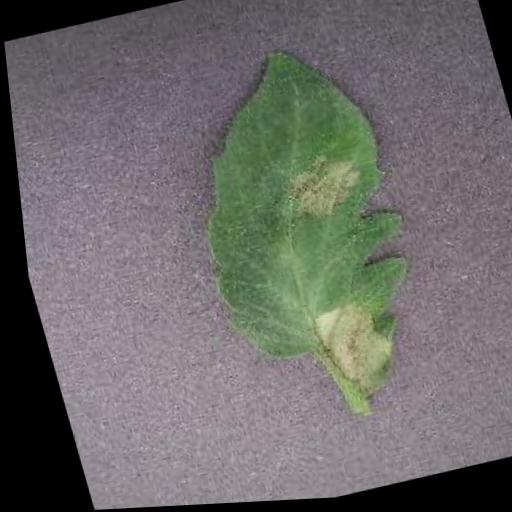Late Blight: (150, 35, 435, 421)
